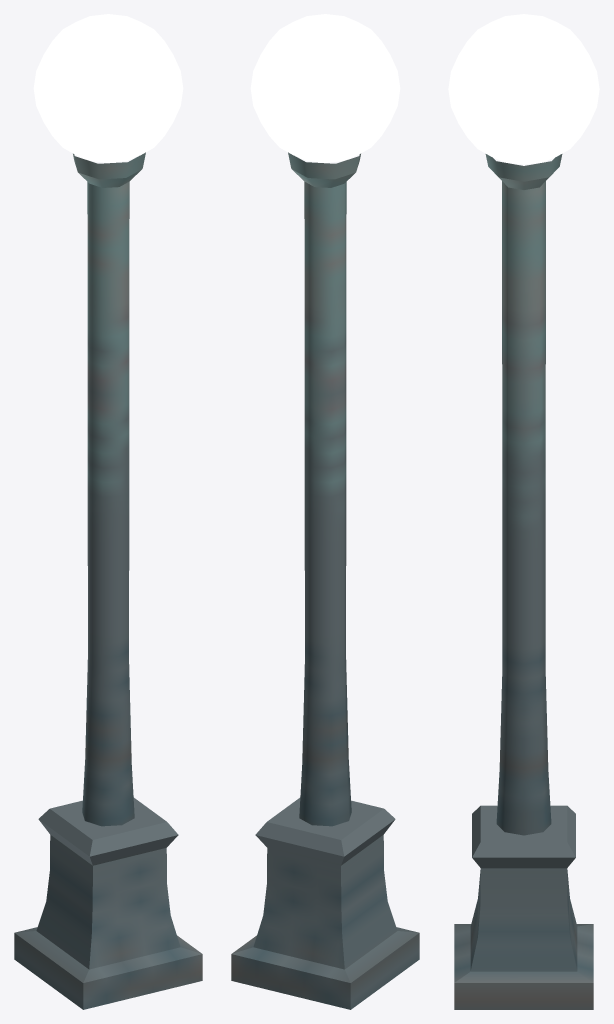
File: 5c693dcd-ec4f-4dc3-8d6e-ddd9c65e82bb.glb
The picture shows the model from 3 angles, left to right: view 1: azimuth 30°, elevation 25°; view 2: azimuth 150°, elevation 25°; view 3: azimuth 270°, elevation 25°; orthographic projection.
Parts seen in each view (by area): view 1: StreetLights; view 2: StreetLights; view 3: StreetLights.
Part boxes in pixels (bbox=[...]): StreetLights: bbox=[14, 14, 202, 1009]; StreetLights: bbox=[231, 14, 419, 1009]; StreetLights: bbox=[448, 14, 599, 1009].
Size of what is drawn, in the model's own units: 0.4818 by 3.37 by 0.4818.
2 materials, 1 textured.
